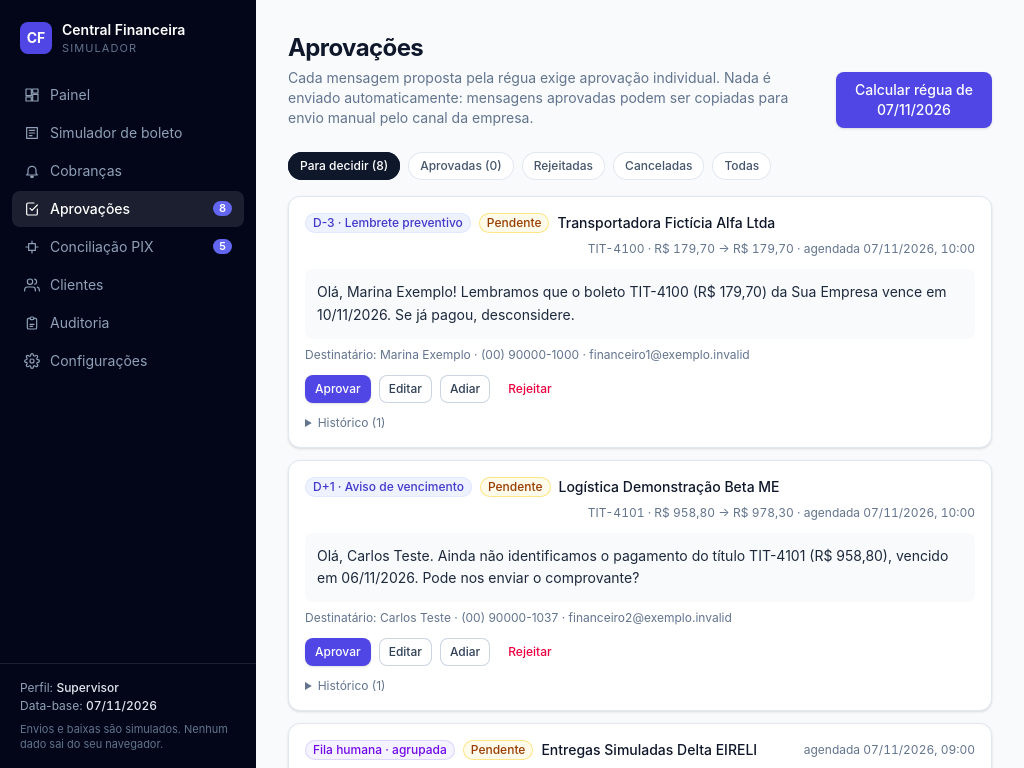
Scenario: interface › aprovar mensagem muda o status e registra auditoria
Click the button "Aprovar" below "(00) 90000-1000": point(338, 388) [305,374,371,402]
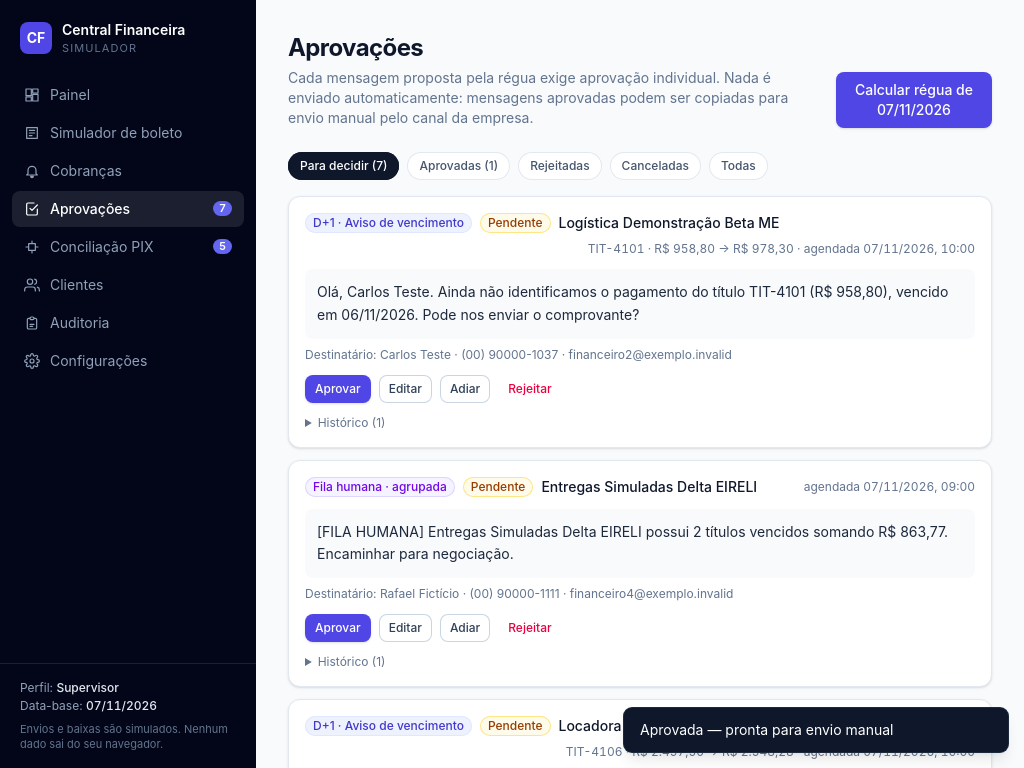
Expected: the number of buttons "Aprovar" is 7
Expected: the text "Aprovada — pronta para envio manual" is shown, [624,708,1008,752]
